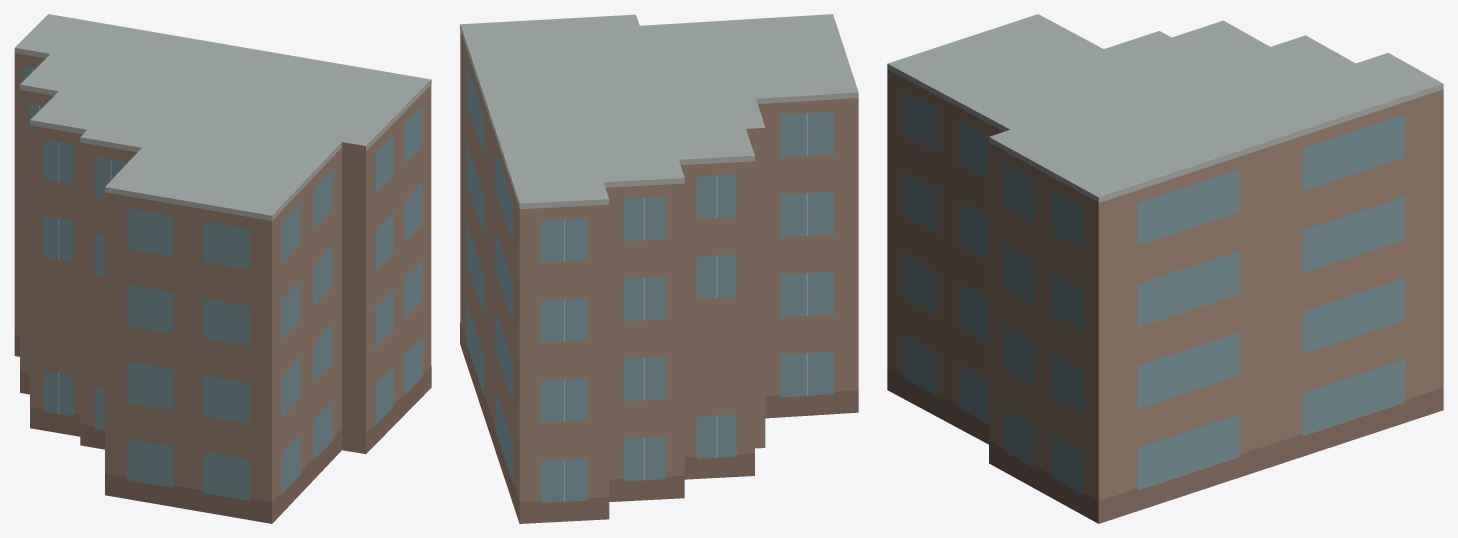
File: survey-upis-33038881.glb
3 views of the same model, side by side, from view 1: azimuth 30°, elevation 25°; view 2: azimuth 150°, elevation 25°; view 3: azimuth 270°, elevation 25° (orthographic). The views are drawn at different scales.
Visible parts, largest first — view 1: survey-upis-33038881.tmp; view 2: survey-upis-33038881.tmp; view 3: survey-upis-33038881.tmp.
Part boxes in pixels (left/top/right/bottom): survey-upis-33038881.tmp: left=14, top=14, right=431, bottom=523; survey-upis-33038881.tmp: left=460, top=14, right=858, bottom=523; survey-upis-33038881.tmp: left=887, top=14, right=1443, bottom=523.
Bounding box in the file's own units: 17.25 × 14.3 × 22.1.
